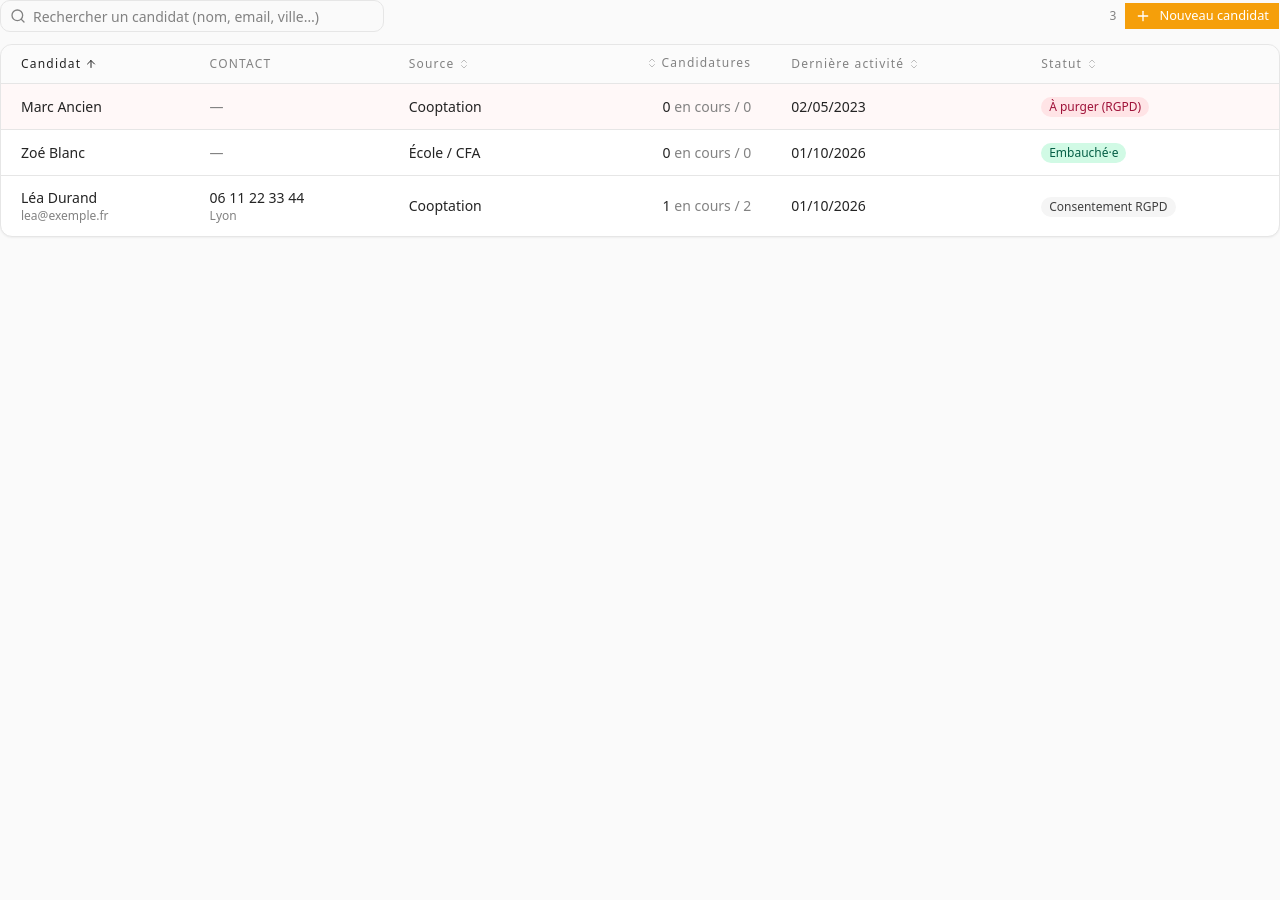
CandidatsSection › email déjà utilisé : message d’unicité sur le champ
Click the button "Nouveau candidat" at (1202, 16), box [1124,2,1279,30]
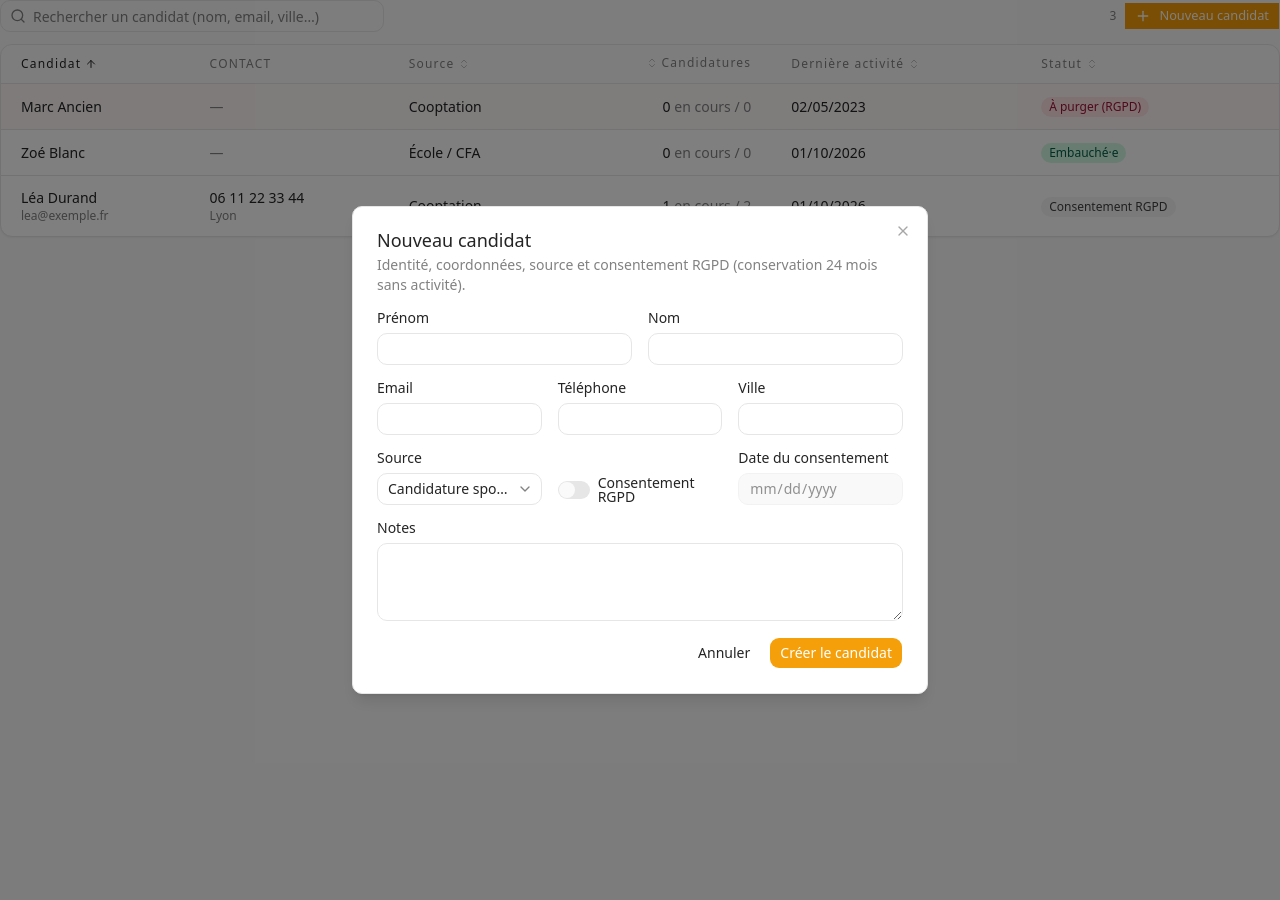
Type "Léa" into the field labelled "Prénom" at (504, 349), box [377,333,632,365]
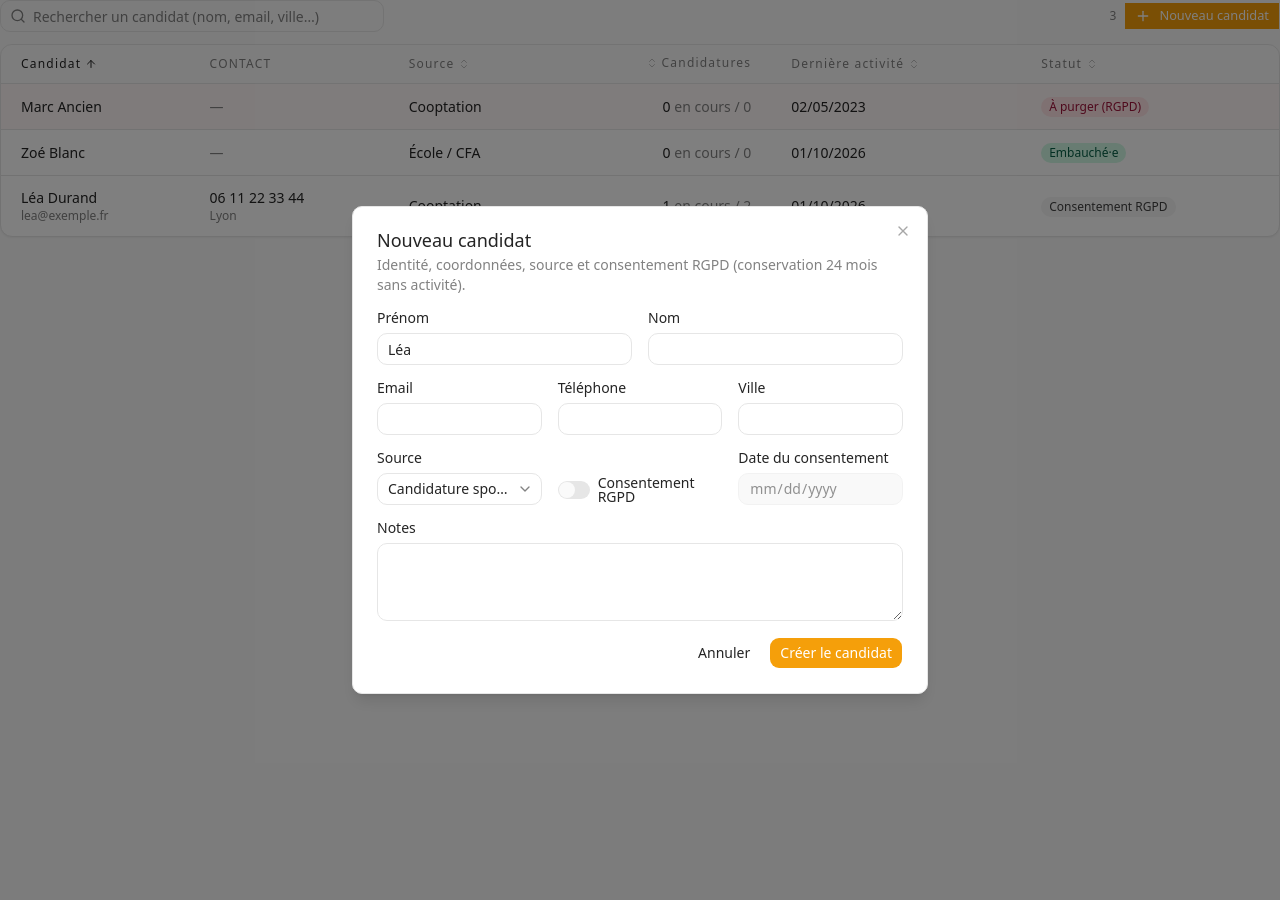
Type "Durand" into the field labelled "Nom" at (776, 349), box [648,333,903,365]
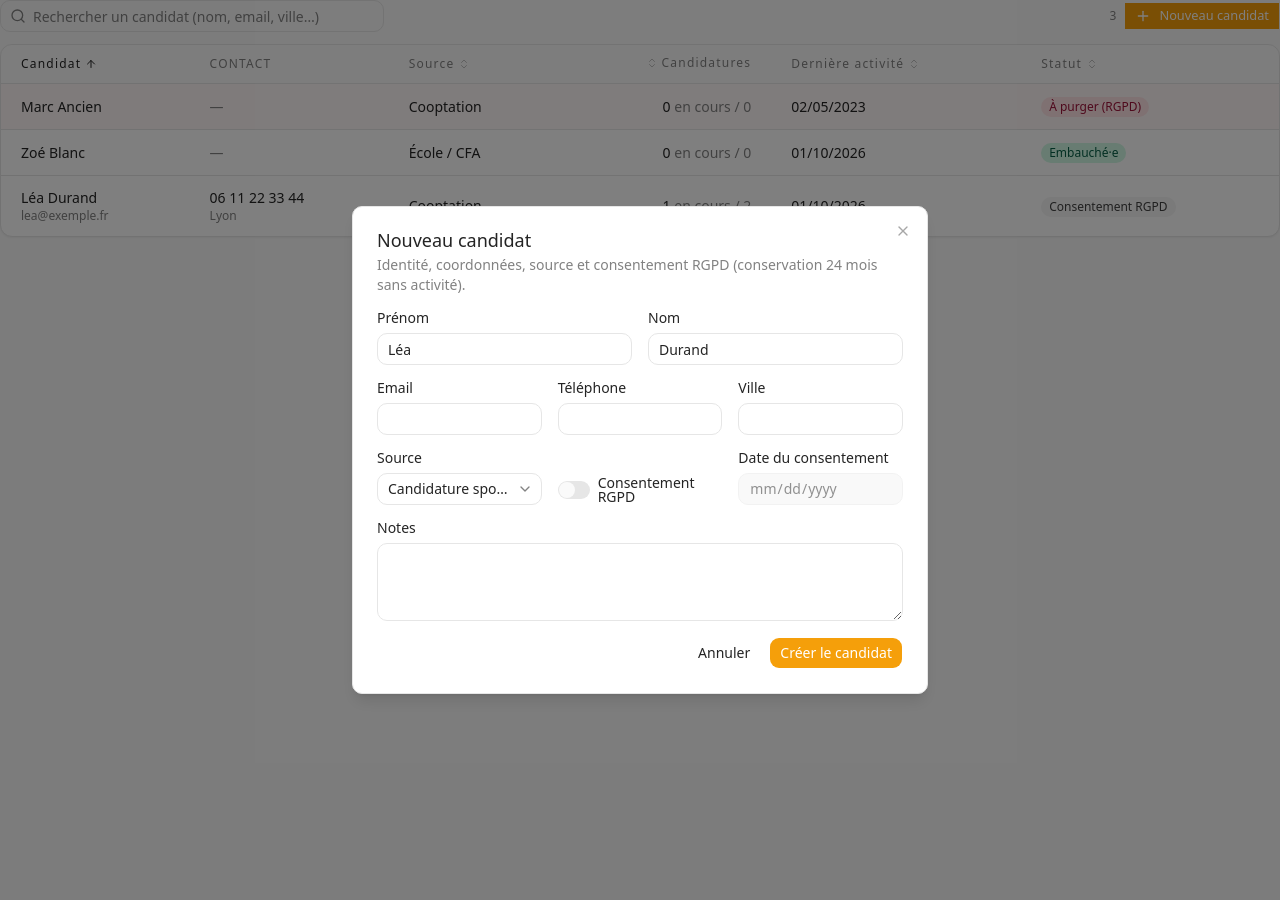
Type "LEA@exemple.fr" into the field labelled "Email" at (459, 419), box [377,403,542,435]
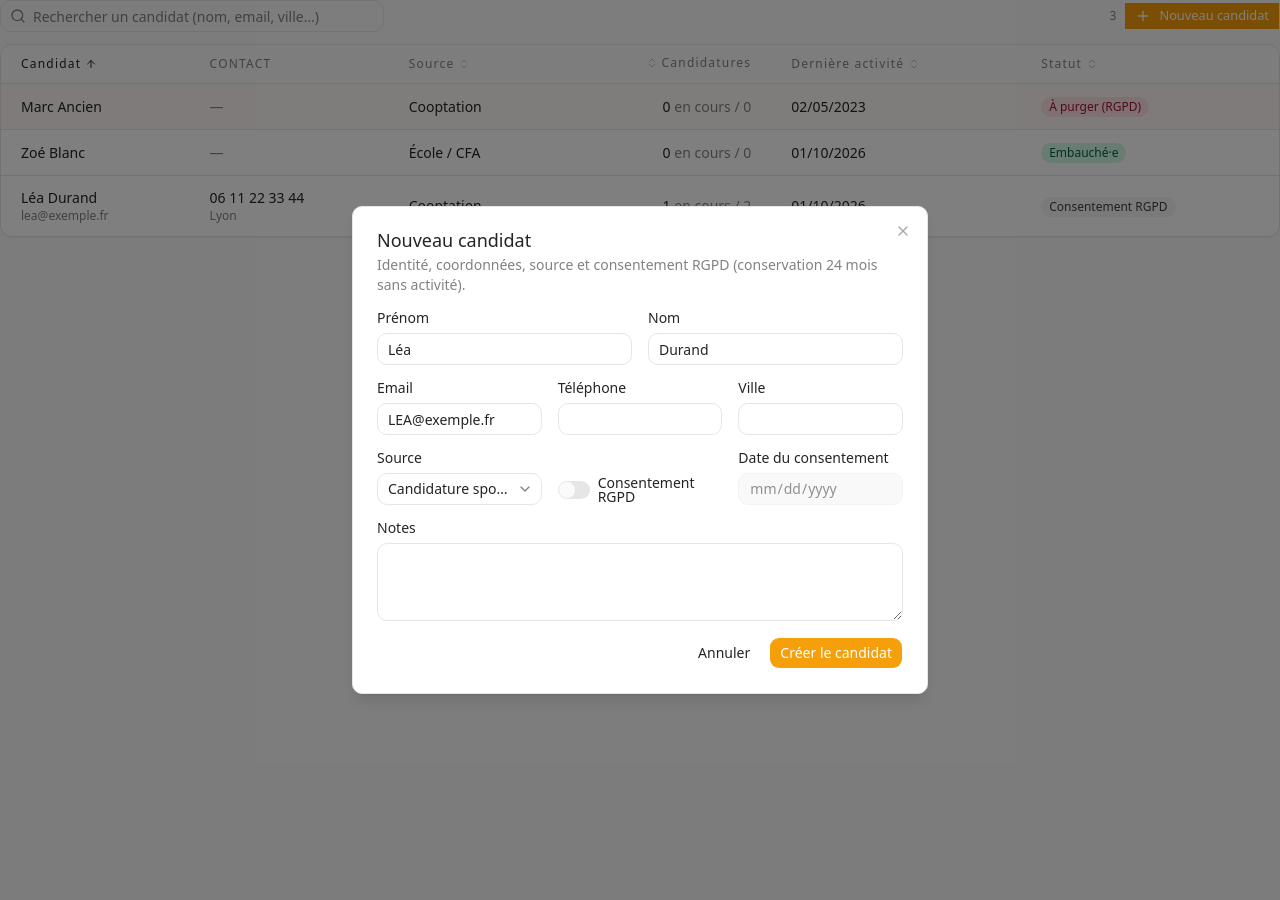
Click the button "Créer le candidat" at (836, 653), box [769,637,903,669]
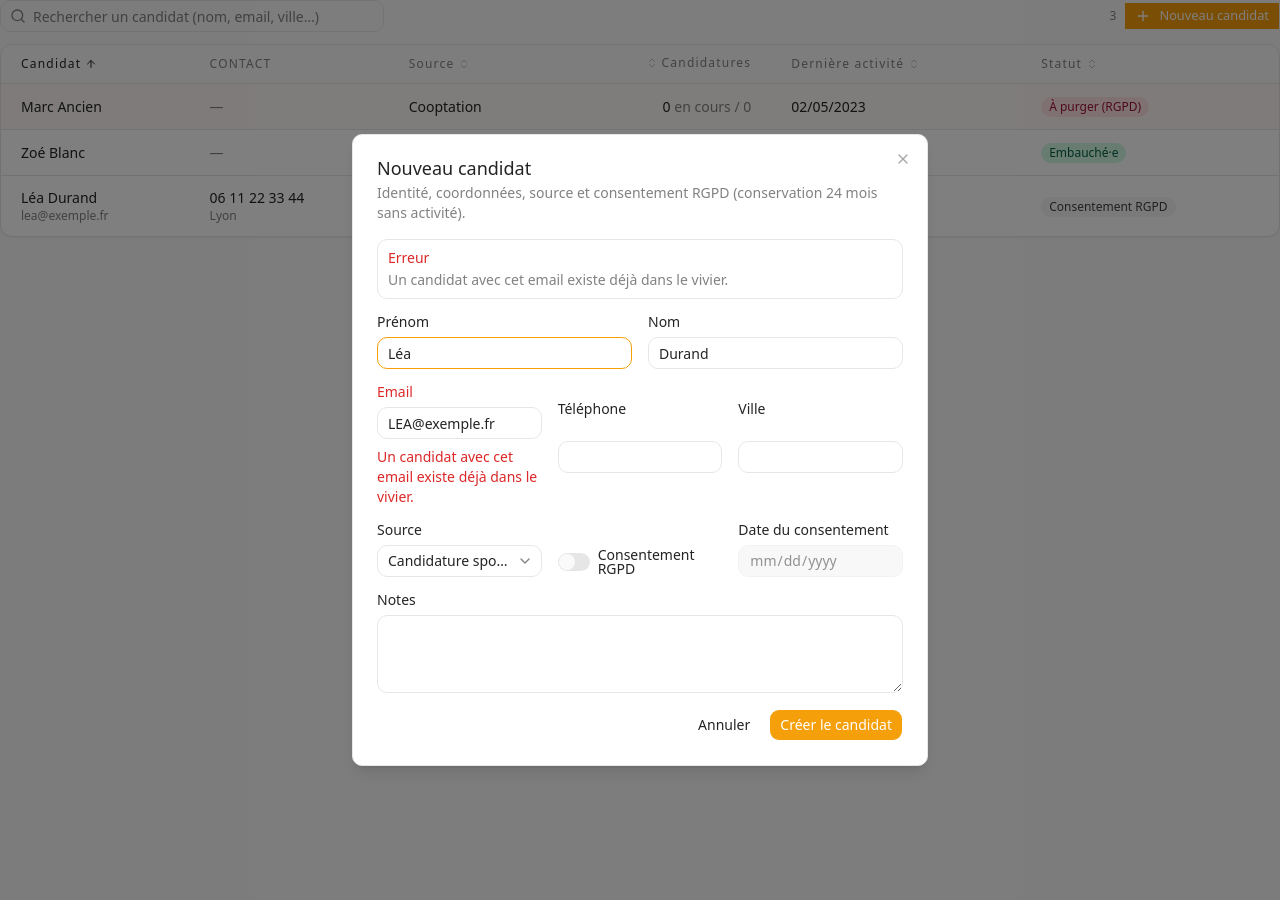
Check: the text "Un candidat avec cet email existe déjà dans le vivier." is shown 2 times, box [388,270,728,289]; [377,447,542,507]
